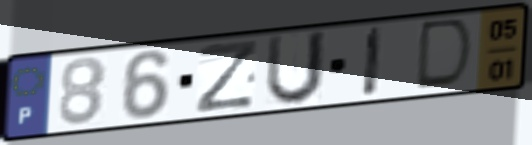6: (117, 46, 174, 125)
8: (56, 53, 112, 130)
D: (411, 16, 478, 93)
I: (360, 24, 387, 99)
U: (262, 28, 332, 108)
Z: (193, 37, 261, 117)
